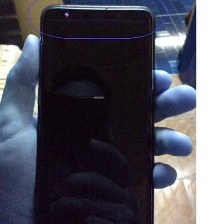phone: (22, 1, 161, 224)
